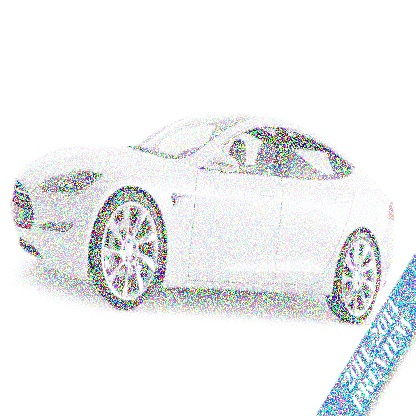Vehicle: (10, 107, 399, 330)
